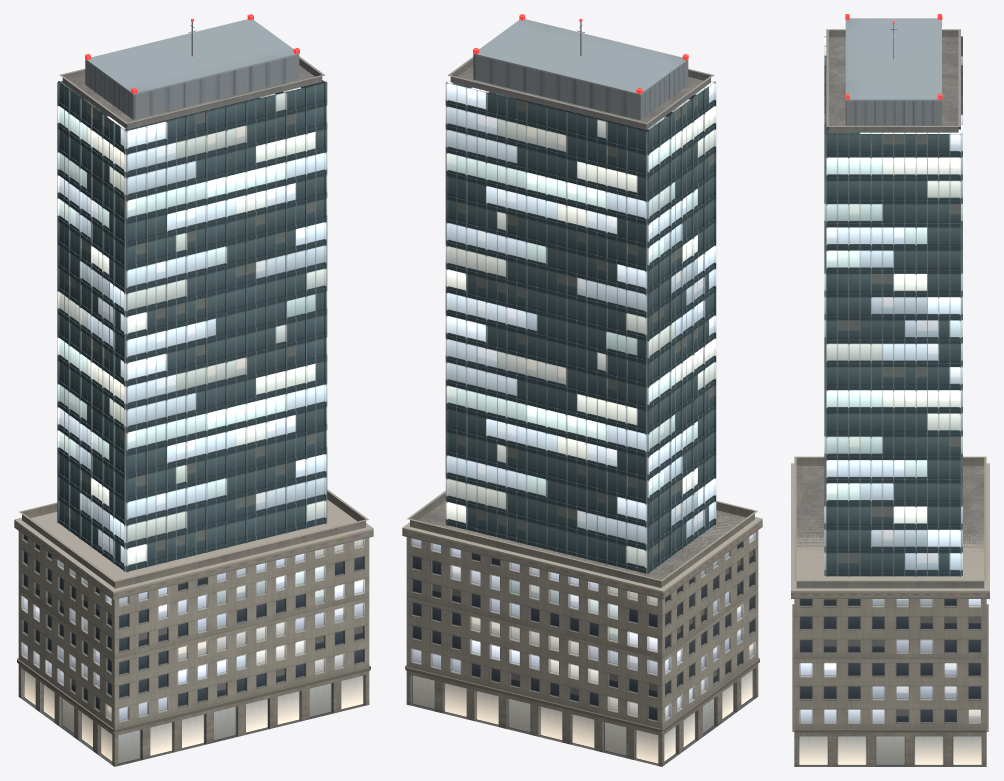
File: tokyo_glassslab_b.glb
The picture shows the model from 3 angles, left to right: view 1: azimuth 30°, elevation 25°; view 2: azimuth 150°, elevation 25°; view 3: azimuth 270°, elevation 25°; orthographic projection.
Visible parts, largest first — view 1: tokyo_glassslab_b; view 2: tokyo_glassslab_b; view 3: tokyo_glassslab_b.
Part boxes in pixels (x1,y1,x2,y2): tokyo_glassslab_b: (14,14,373,766); tokyo_glassslab_b: (402,14,762,766); tokyo_glassslab_b: (791,14,989,766).
Bounding box in the file's own units: 47 × 117 × 31.
1 material, 1 textured.
